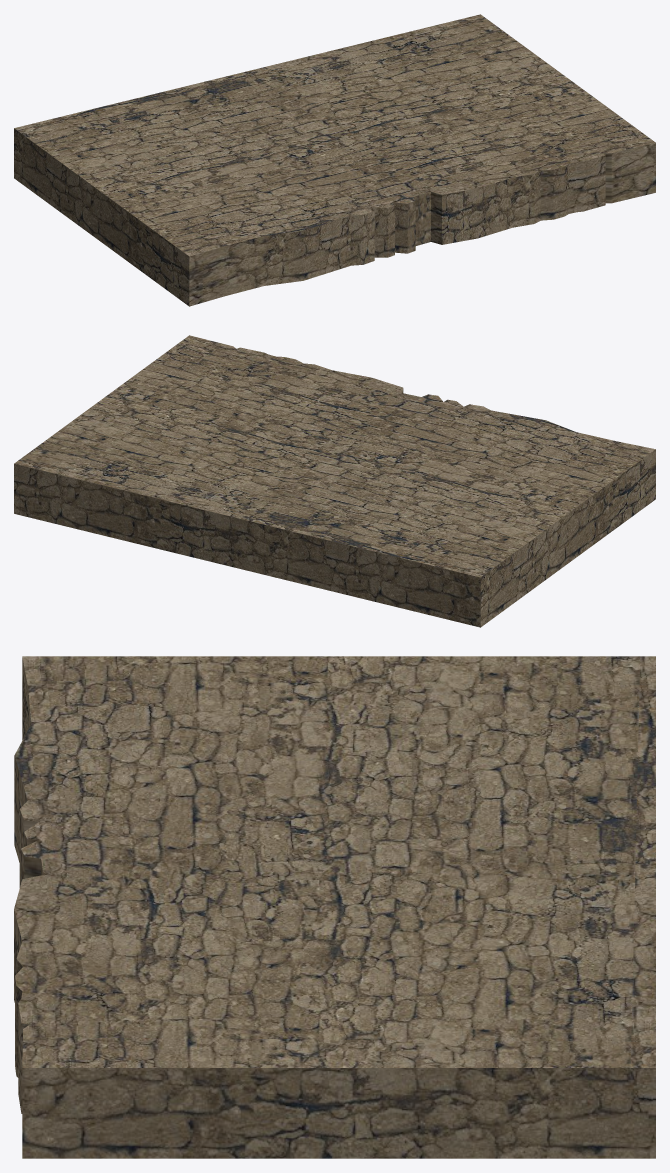
File: wall_tank_whole.glb
3 renders of one model, top to bottom at view 1: azimuth 30°, elevation 25°; view 2: azimuth 150°, elevation 25°; view 3: azimuth 270°, elevation 25°, orthographic. The views are drawn at different scales.
Bounding box in the file's own units: 258 × 26.45 × 170.
Materials: 1 (1 with a texture image).
